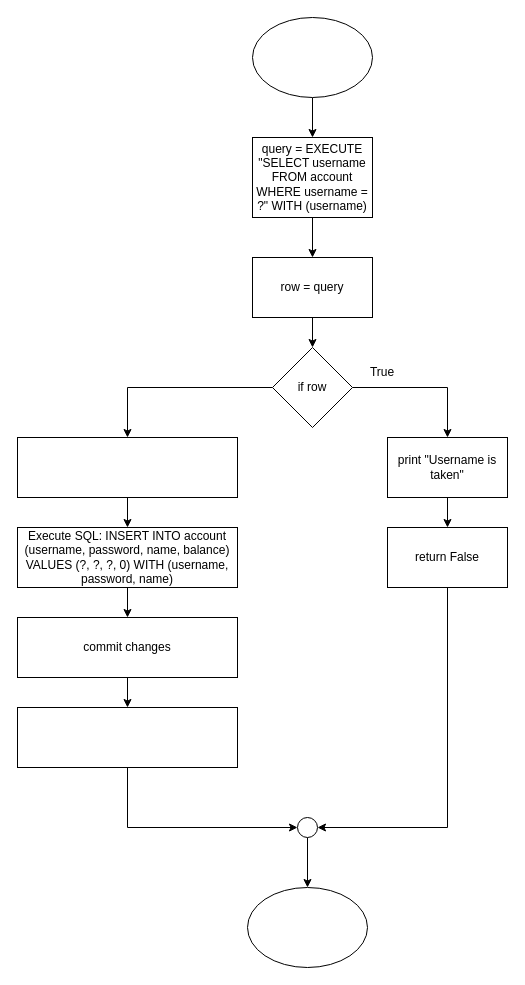
Image size: 525x985. Some labels were removed from this diagram. The centre of each missing label's shape, as x and y in pixels:
EXIT: point 307,927
password = SHA256(password) -> Hex: point 127,467
register (username, password, name): point 312,57
return True: point 127,737
